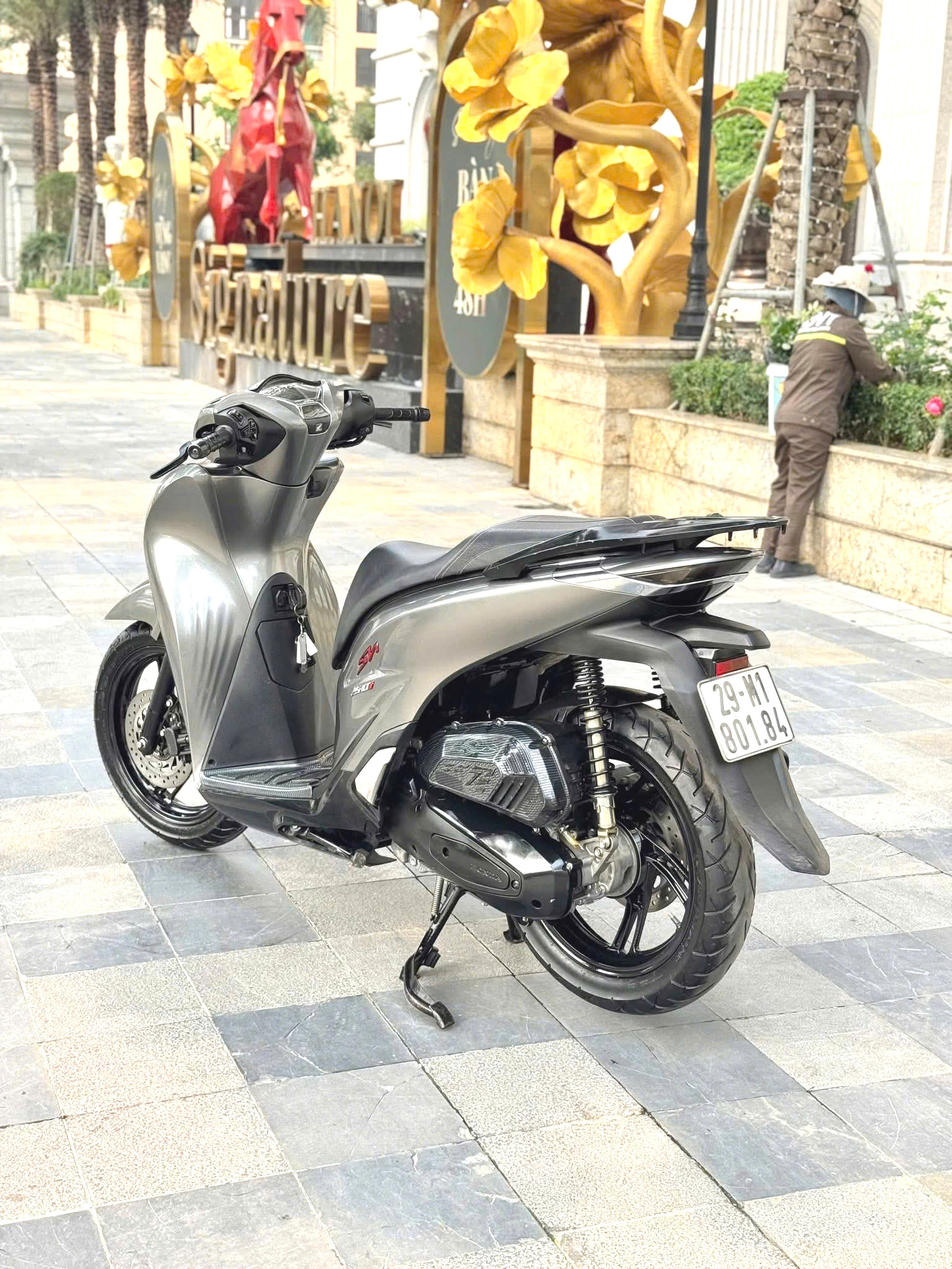Bien-so: (691, 675, 794, 783)
